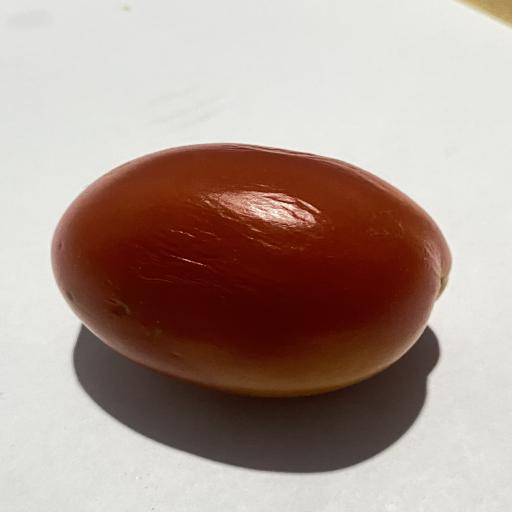overipe: (52, 144, 451, 396)
